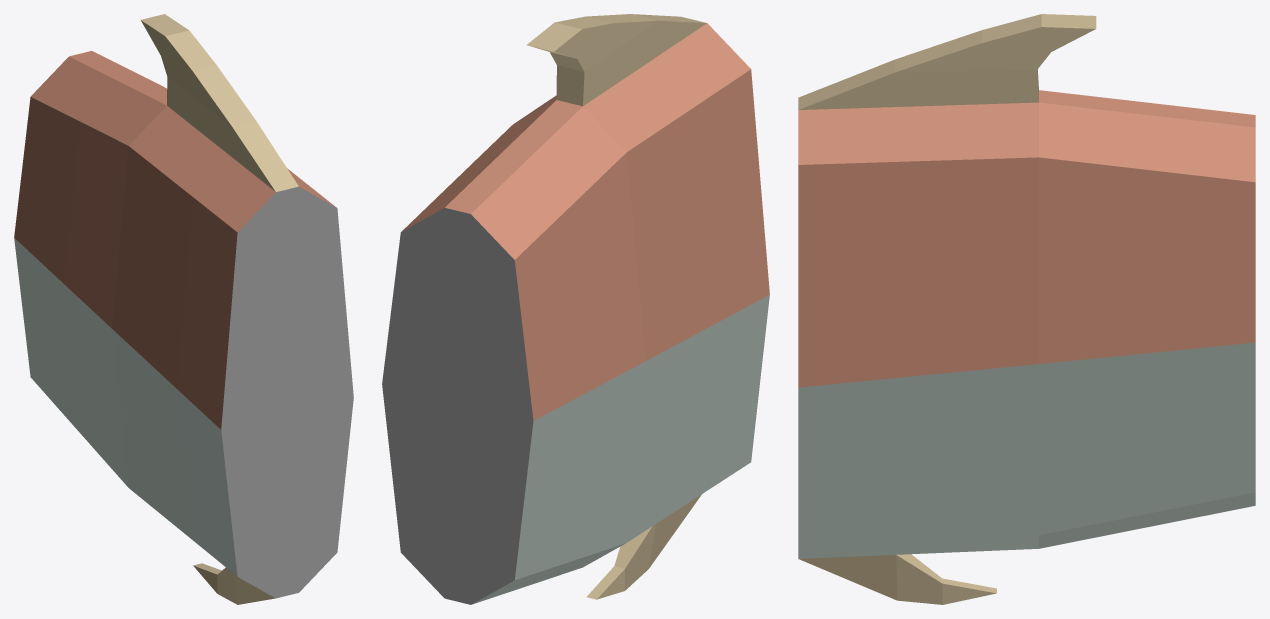
The model's file is buttomTopPart.fbx.
3 views of the same model, side by side, from view 1: azimuth 30°, elevation 25°; view 2: azimuth 150°, elevation 25°; view 3: azimuth 270°, elevation 25° (orthographic). The views are drawn at different scales.
Visible parts, largest first — view 1: Fish; view 2: Fish; view 3: Fish.
Boxes of the visible parts, <box> form: Fish: <box>14,14,353,604</box>; Fish: <box>382,14,769,604</box>; Fish: <box>798,14,1255,604</box>.
Bounding box in the file's own units: 28.1 × 107 × 76.
